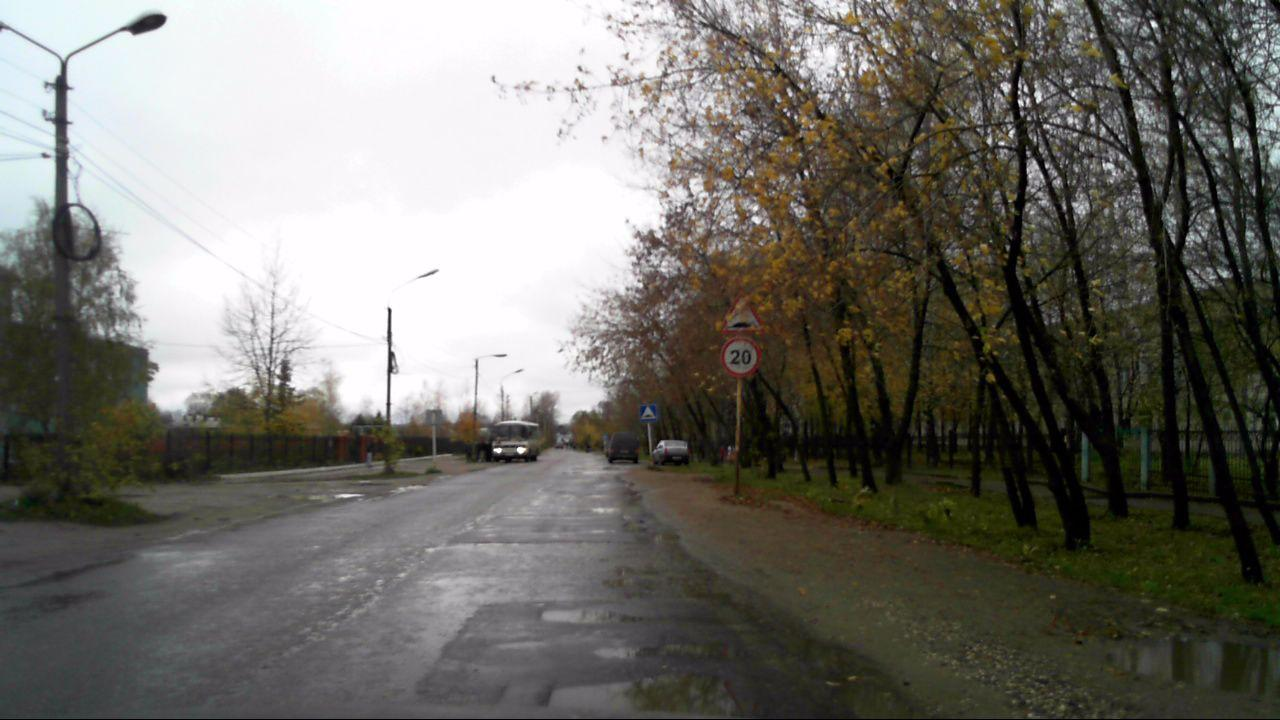obstructed_road_sign: (716, 292, 774, 335)
road_sign: (720, 335, 762, 375), (639, 404, 657, 422)
